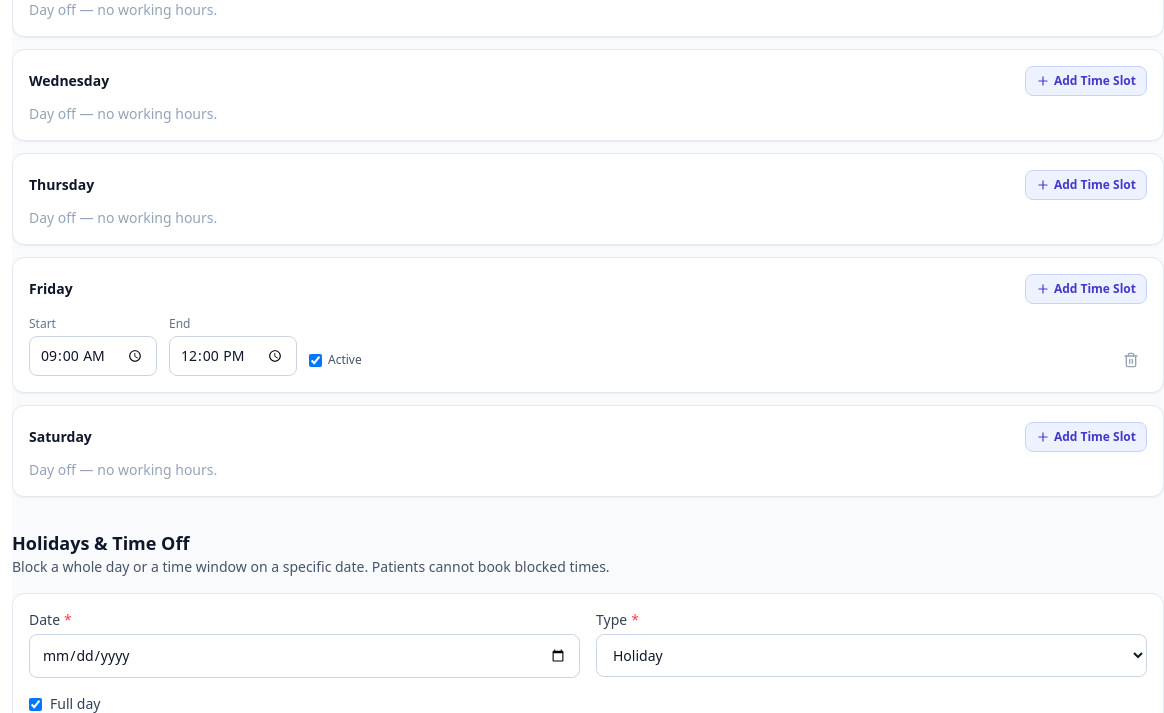
Test: Weekly Recurring Schedule Editor (/doctor/schedule) › deleting a slot removes it and restores "Day off" when it was the last one
(page scrolled)
Click the button named "Remove Friday slot 1" at [1131, 360], box [1115,344,1147,376]
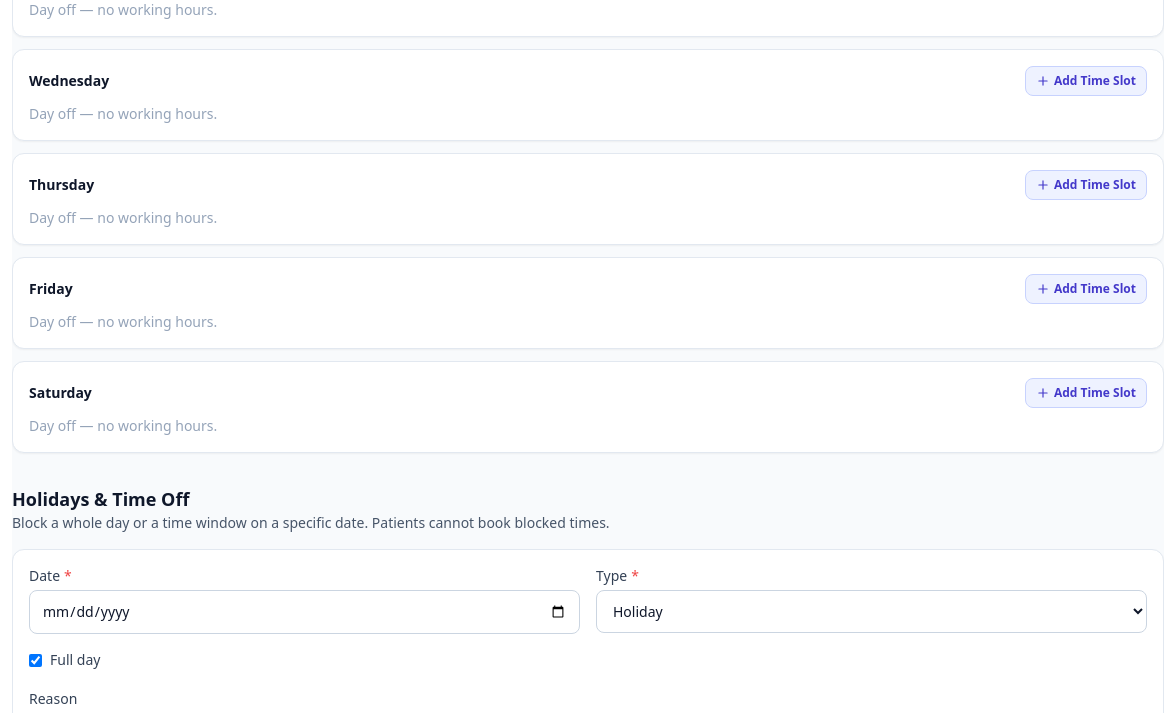
Result: the time field labelled "Friday slot 1 start time" is gone
Result: the text "Day off — no working hours." is shown 7 times
